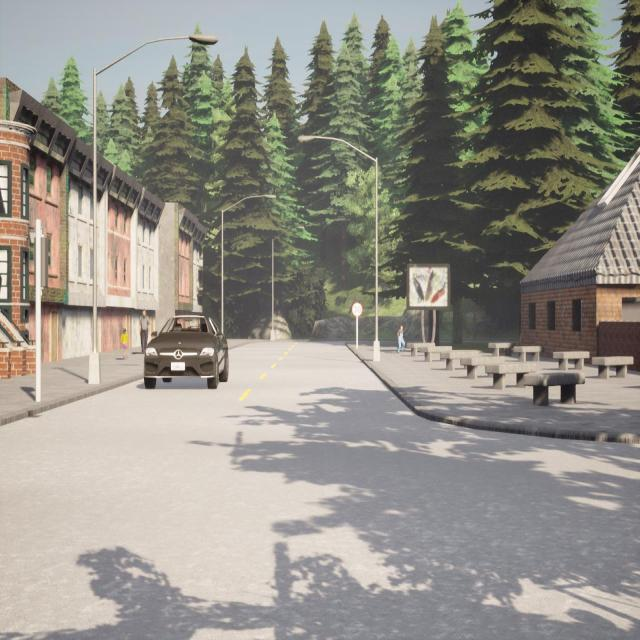Pedestrian: (138, 311, 150, 355), (120, 327, 129, 360), (396, 325, 406, 354)
Traffic_Signs: (351, 302, 363, 317)
Vehicle: (144, 313, 228, 389)
traffic_light: (34, 237, 48, 287)
